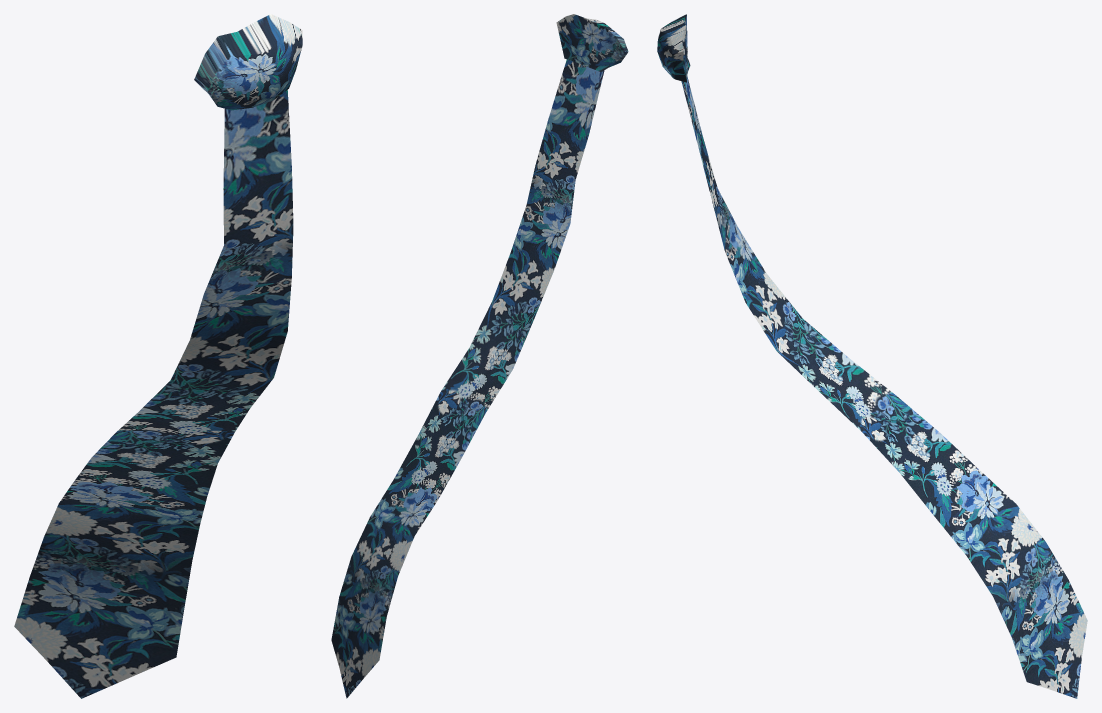
File: Pose-11_Tie-2.fbx
3 renders of one model, left to right at view 1: azimuth 30°, elevation 25°; view 2: azimuth 150°, elevation 25°; view 3: azimuth 270°, elevation 25°, orthographic. The views are drawn at different scales.
Parts seen in each view (by area): view 1: Pose-11_Tie-2; view 2: Pose-11_Tie-2; view 3: Pose-11_Tie-2.
Boxes of the visible parts, <box> form: Pose-11_Tie-2: <box>14,14,302,698</box>; Pose-11_Tie-2: <box>331,14,628,698</box>; Pose-11_Tie-2: <box>657,14,1087,698</box>.
Bounding box in the file's own units: 11 × 42.38 × 25.67.
